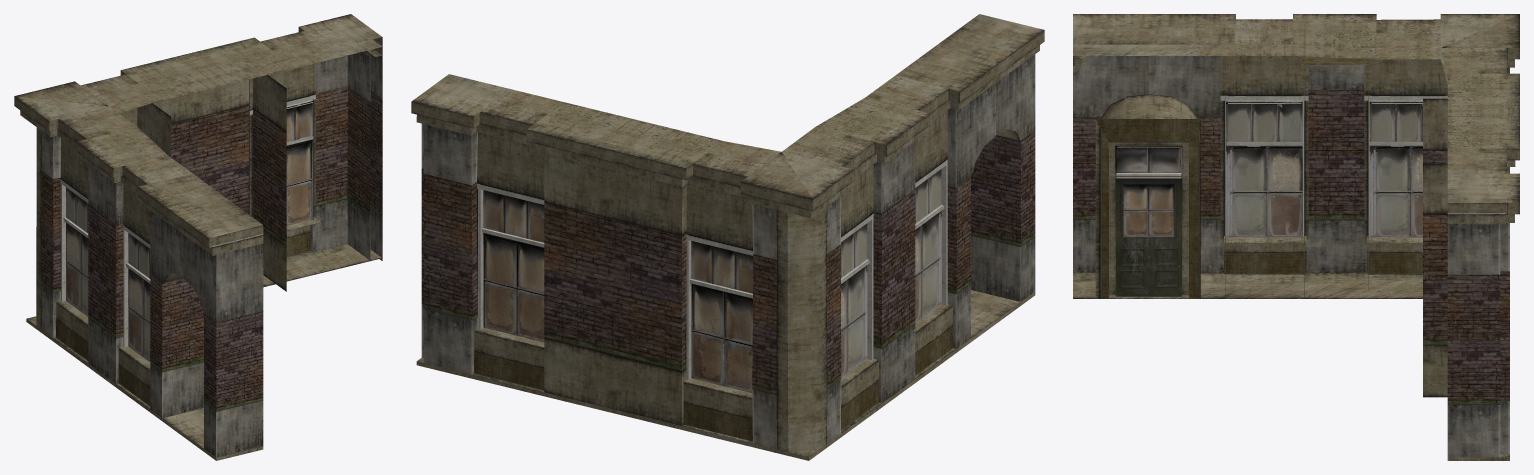
The model's file is Corner_Building_Part_02_Base.fbx.
The picture shows the model from 3 angles, left to right: view 1: azimuth 30°, elevation 25°; view 2: azimuth 150°, elevation 25°; view 3: azimuth 270°, elevation 25°; orthographic projection. The views are drawn at different scales.
Parts seen in each view (by area): view 1: Corner_Building_Part_02_Base; view 2: Corner_Building_Part_02_Base; view 3: Corner_Building_Part_02_Base.
Part boxes in pixels (box(x1,y1,x2,y2)): Corner_Building_Part_02_Base: box(14, 14, 382, 460); Corner_Building_Part_02_Base: box(411, 14, 1044, 460); Corner_Building_Part_02_Base: box(1073, 14, 1519, 460).
Bounding box in the file's own units: 716 × 456 × 716.
